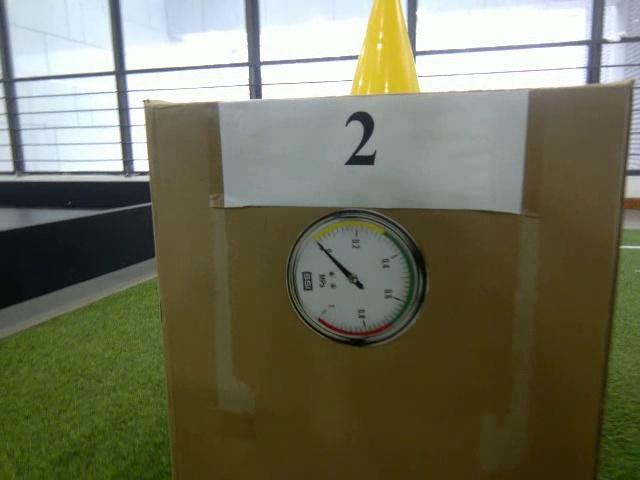2: (342, 111, 378, 166)
Dashboard: (286, 209, 428, 347)
ssi: (302, 271, 312, 291)
yellow_barrel: (350, 0, 421, 96)
